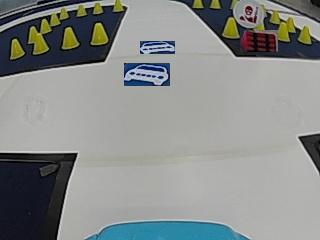evil: (235, 0, 263, 27)
